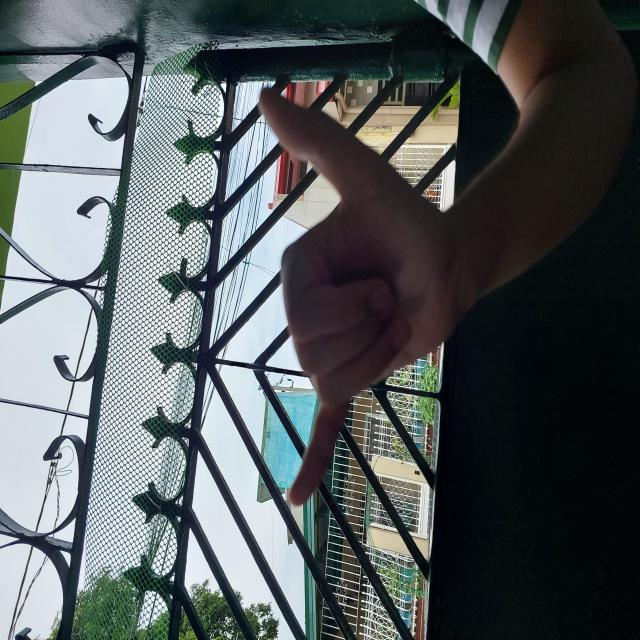Y: (206, 73, 494, 527)
